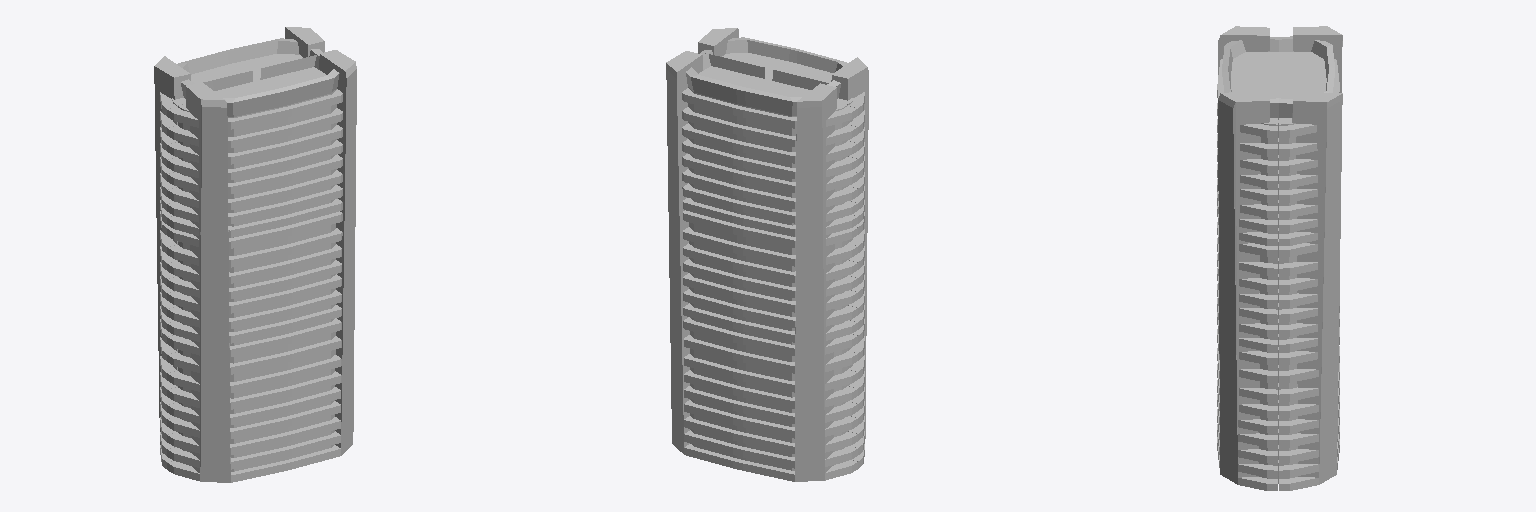
File: building 1.obj
The picture shows the model from 3 angles: view 1: azimuth 30°, elevation 25°; view 2: azimuth 150°, elevation 25°; view 3: azimuth 270°, elevation 25°; orthographic projection.
Parts seen in each view (by area): view 1: The_City.001; view 2: The_City.001; view 3: The_City.001.
Boxes of the visible parts, box(x1,y1,x2,y2) form: The_City.001: box(154, 27, 356, 482); The_City.001: box(666, 28, 868, 481); The_City.001: box(1217, 26, 1342, 490).
Bounding box in the file's own units: 123 × 252 × 74.57.